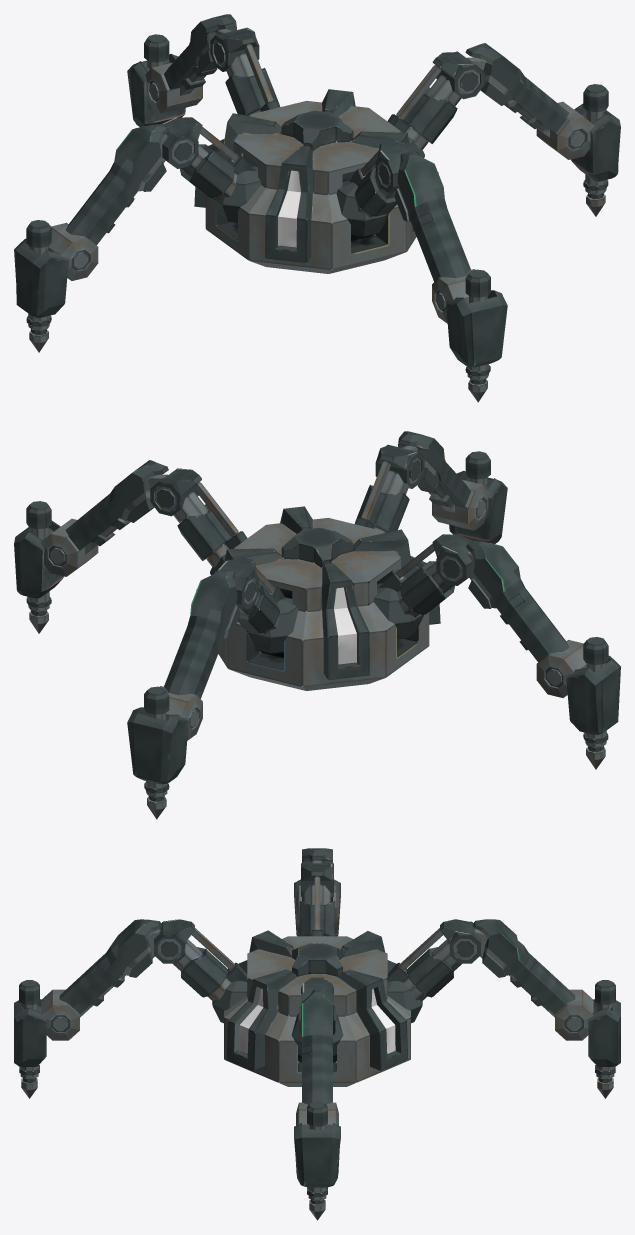
Rendered from Boss2.fbx.
3 renders of one model, top to bottom at view 1: azimuth 30°, elevation 25°; view 2: azimuth 150°, elevation 25°; view 3: azimuth 270°, elevation 25°, orthographic. The views are drawn at different scales.
Parts seen in each view (by area): view 1: Body, MidLeg[S], MidLeg[E], MidLeg[N], TopLeg[S], BottomLeg[E], TopLeg[N], BottomLeg[S], MidLeg[W], TopLeg[E], TopLeg[W], BottomLeg[N] (+1 smaller); view 2: Body, MidLeg[S], MidLeg[W], MidLeg[N], TopLeg[S], BottomLeg[W], TopLeg[N], BottomLeg[S], MidLeg[E], TopLeg[W], TopLeg[E], BottomLeg[N] (+1 smaller); view 3: Body, MidLeg[E], MidLeg[W], TopLeg[E], TopLeg[W], MidLeg[N], BottomLeg[N], BottomLeg[W], BottomLeg[E], TopLeg[S], TopLeg[N], MidLeg[S].
Boxes of the visible parts, x1=… form: Body: x1=194, y1=89, x2=438, y2=273; MidLeg[S]: x1=48, y1=124, x2=169, y2=280; MidLeg[E]: x1=394, y1=151, x2=475, y2=323; MidLeg[N]: x1=462, y1=43, x2=594, y2=159; TopLeg[S]: x1=159, y1=117, x2=267, y2=222; BottomLeg[E]: x1=446, y1=269, x2=507, y2=402; TopLeg[N]: x1=387, y1=51, x2=484, y2=157; BottomLeg[S]: x1=14, y1=220, x2=68, y2=352; MidLeg[W]: x1=145, y1=14, x2=236, y2=113; TopLeg[E]: x1=336, y1=140, x2=420, y2=236; TopLeg[W]: x1=210, y1=27, x2=305, y2=166; BottomLeg[N]: x1=571, y1=84, x2=620, y2=216; Body: x1=196, y1=506, x2=440, y2=690; MidLeg[S]: x1=466, y1=540, x2=586, y2=697; MidLeg[W]: x1=159, y1=569, x2=240, y2=740; MidLeg[N]: x1=40, y1=460, x2=169, y2=576; TopLeg[S]: x1=367, y1=534, x2=472, y2=639; BottomLeg[W]: x1=127, y1=686, x2=188, y2=819; TopLeg[N]: x1=150, y1=468, x2=247, y2=575; BottomLeg[S]: x1=566, y1=637, x2=620, y2=769; MidLeg[E]: x1=398, y1=431, x2=489, y2=530; TopLeg[W]: x1=214, y1=557, x2=298, y2=653; TopLeg[E]: x1=329, y1=444, x2=424, y2=584; BottomLeg[N]: x1=14, y1=501, x2=63, y2=633; Body: x1=224, y1=930, x2=410, y2=1086; MidLeg[E]: x1=41, y1=919, x2=161, y2=1040; MidLeg[W]: x1=473, y1=919, x2=593, y2=1040; TopLeg[E]: x1=154, y1=919, x2=248, y2=1023; TopLeg[W]: x1=386, y1=919, x2=480, y2=1023; MidLeg[N]: x1=296, y1=989, x2=338, y2=1129; BottomLeg[N]: x1=294, y1=1101, x2=340, y2=1220; BottomLeg[W]: x1=588, y1=980, x2=620, y2=1098; BottomLeg[E]: x1=14, y1=980, x2=46, y2=1098; TopLeg[S]: x1=297, y1=863, x2=337, y2=976; TopLeg[N]: x1=291, y1=977, x2=343, y2=1056; MidLeg[S]: x1=296, y1=848, x2=338, y2=927.
Bounding box in the file's own units: 488 × 158 × 488.
2 materials, 2 textured.
